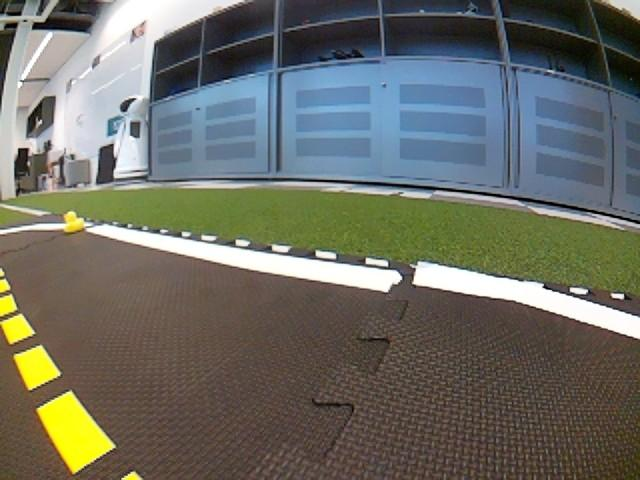Duckies: (61, 212, 84, 231)
